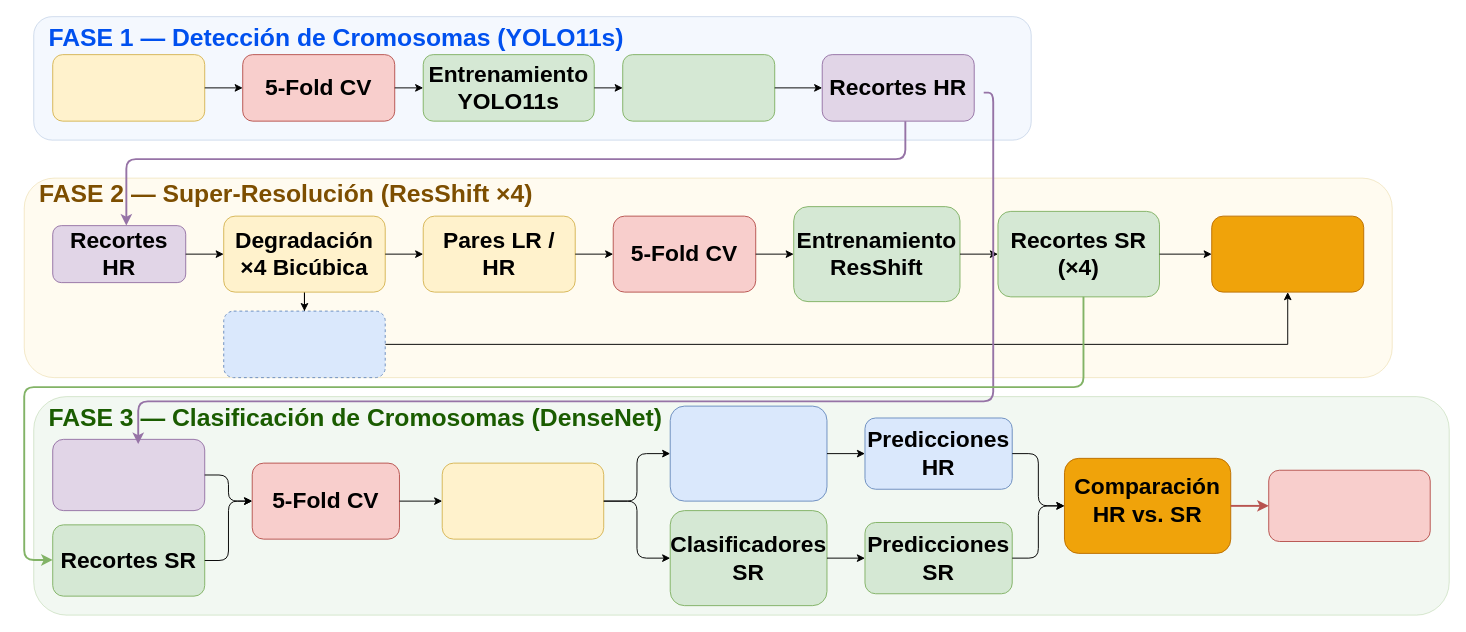
Image size: 1466x632. Some labels were removed from this diagram. Here are the shapes that lost their labels. From the top down, the centre of each, then its label:
At [128,87]: "Conjunto de Datos".
At [698,87]: "Predicciones BBox".
At [1287,253]: "Métricas de Calidad".
At [304,344]: "Baseline Clásico".
At [748,453]: "Clasificador HR".
At [128,474]: "Recortes HR Originales".
At [522,500]: "Data Augmentation".
At [1349,505]: "Conclusión".
